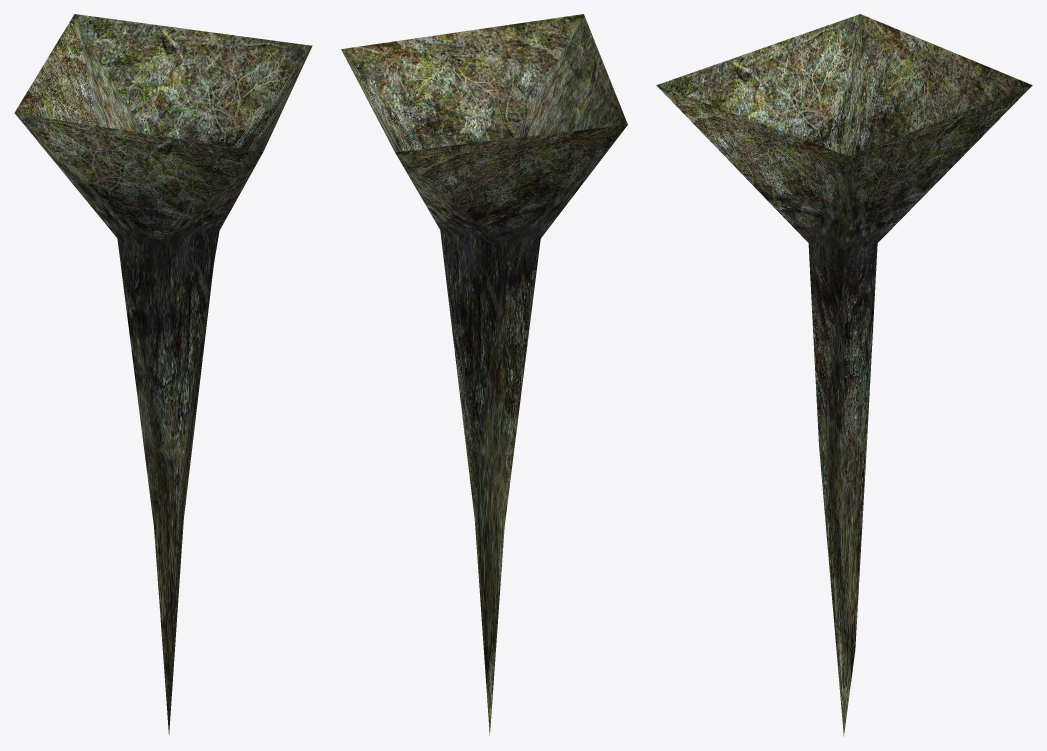
The model's file is thm_all_cave_stalagtite_damprock_a3_l2.fbx.
3 views of the same model, side by side, from view 1: azimuth 30°, elevation 25°; view 2: azimuth 150°, elevation 25°; view 3: azimuth 270°, elevation 25° (orthographic).
Parts seen in each view (by area): view 1: mesh_node; view 2: mesh_node; view 3: mesh_node.
Part boxes in pixels (<box>): mesh_node: <box>14,14,312,734</box>; mesh_node: <box>341,14,627,735</box>; mesh_node: <box>656,14,1032,736</box>.
Bounding box in the file's own units: 1.23 × 2.62 × 1.37.
